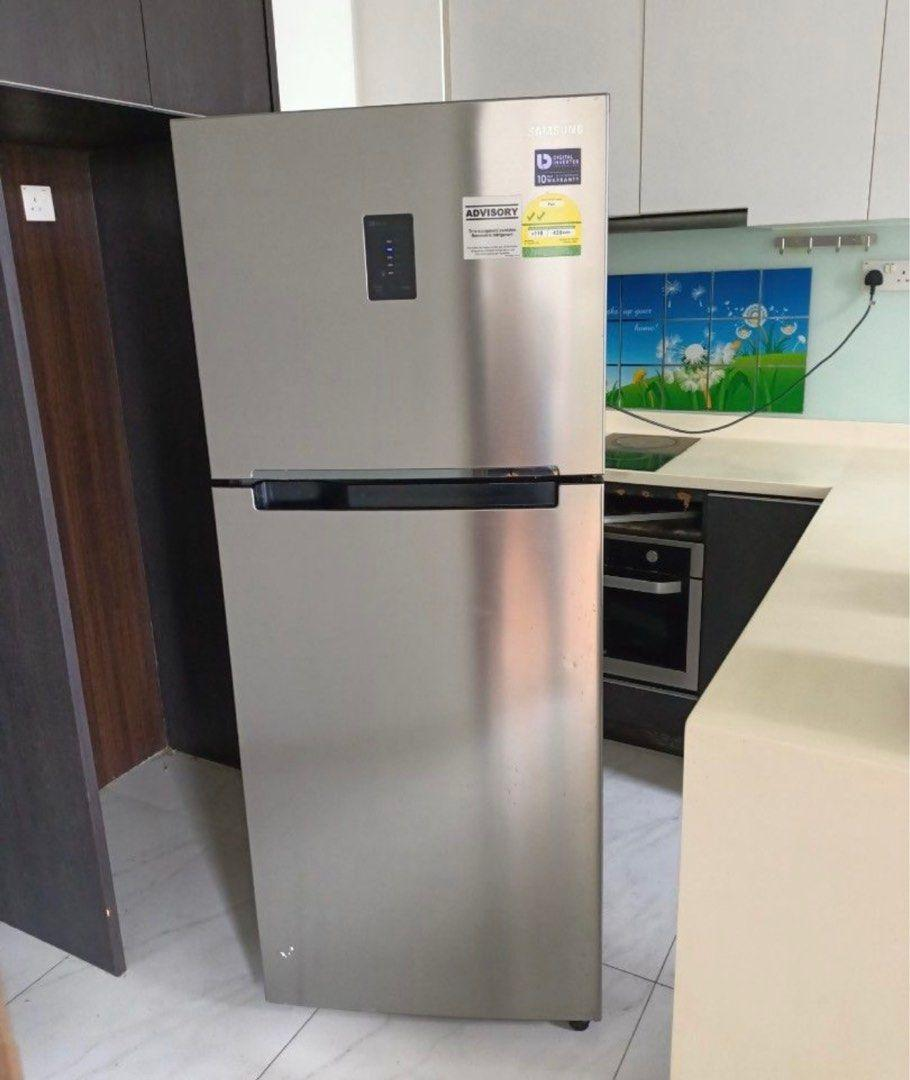Fridge: (164, 95, 607, 1035)
